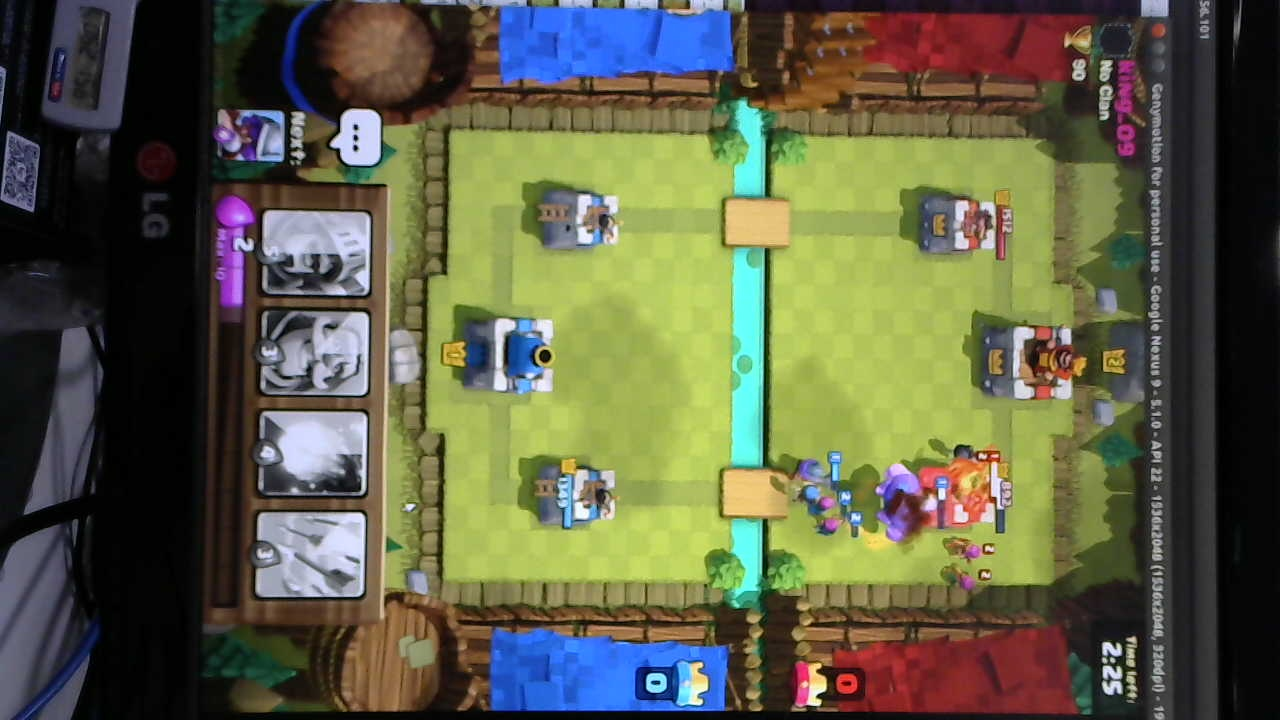archers: (944, 532, 990, 600), (809, 487, 854, 546)
arena: (543, 187, 628, 250), (544, 462, 621, 527)
bomb: (953, 435, 994, 471), (787, 482, 828, 505)
dragon: (946, 460, 999, 499)
earena: (917, 194, 998, 256), (930, 460, 1000, 530)
eking: (971, 319, 1079, 404)
giant: (882, 460, 934, 550)
king: (453, 309, 558, 399)
musketeer: (786, 450, 836, 485)
